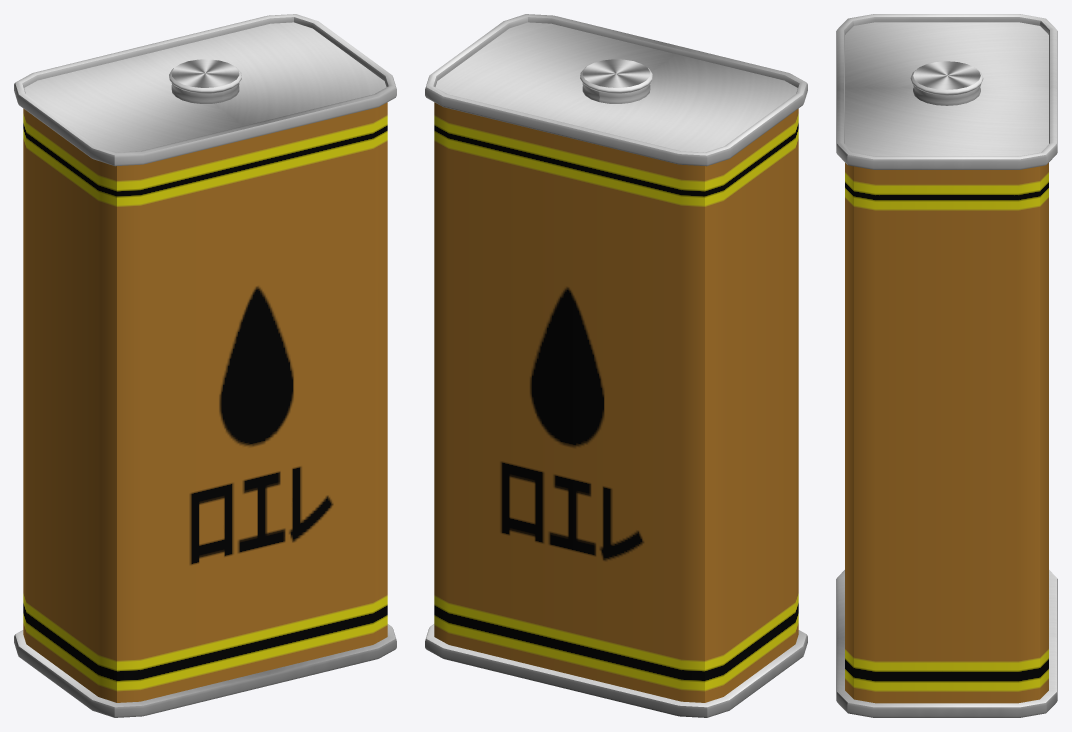
File: oil.fbx
The picture shows the model from 3 angles, left to right: view 1: azimuth 30°, elevation 25°; view 2: azimuth 150°, elevation 25°; view 3: azimuth 270°, elevation 25°; orthographic projection.
Parts seen in each view (by area): view 1: pCube4; view 2: pCube4; view 3: pCube4.
Boxes of the visible parts, x1,y1,x2,y2 form: pCube4: (14, 14, 396, 717); pCube4: (425, 14, 807, 717); pCube4: (836, 14, 1057, 717).
Size of the model in its own units: 1.99 by 3.63 by 1.28.
